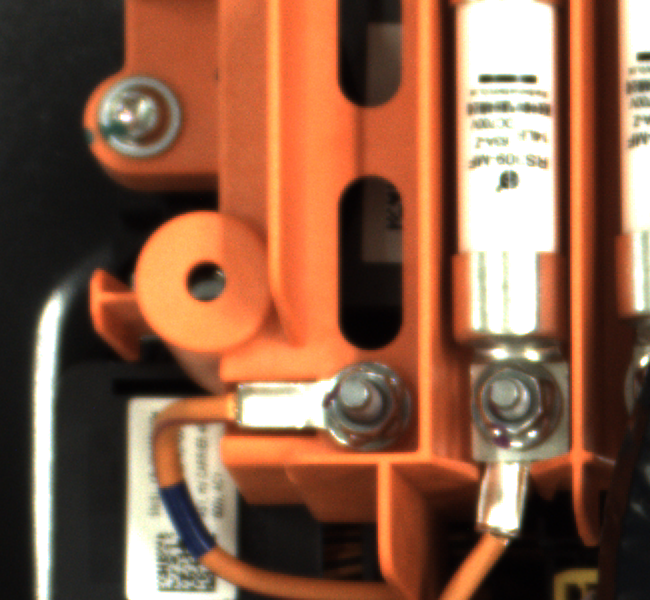screw_m: (78, 71, 212, 169)
screw_s: (314, 359, 419, 451), (463, 358, 563, 452)
